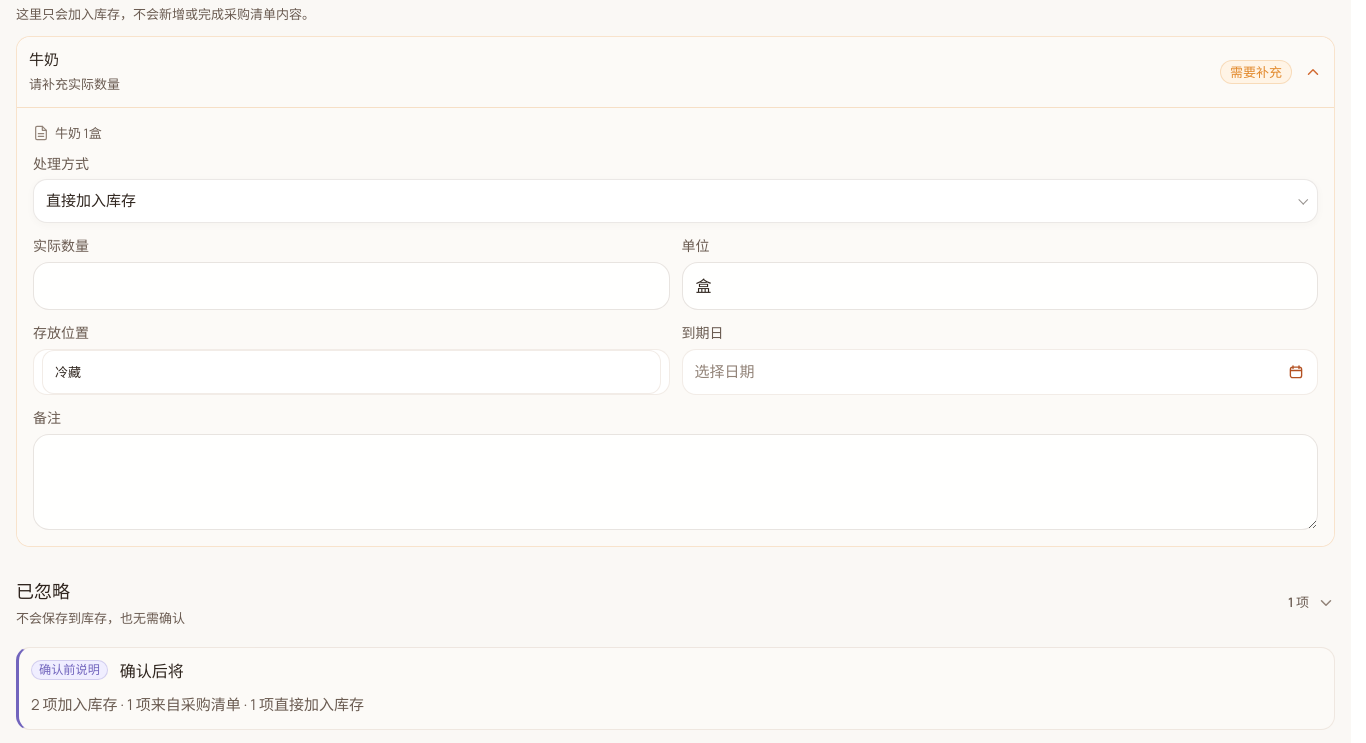
AiInventoryIntakeApproval › presents a compact overview and collapses ignored section by default
(page scrolled)
Click the button with class "ai-inventory-intake-ignored-toggle" at (43, 591), box top-left (16, 579), bottom-right (1335, 627)
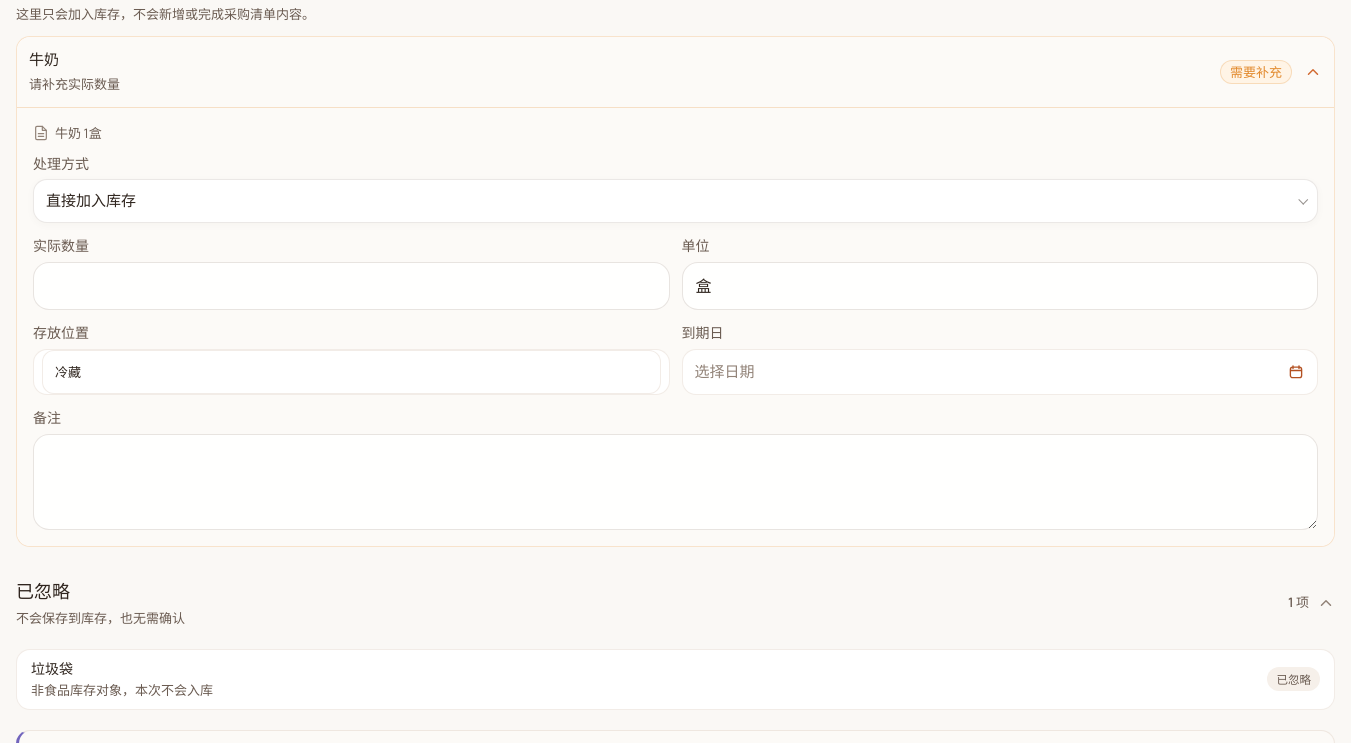
Expected: the button with class "ai-inventory-intake-ignored-toggle" is expanded, top-left (16, 579), bottom-right (1335, 627)
Expected: the element with class "ai-inventory-intake-ignored" shows "垃圾袋", top-left (31, 659), bottom-right (73, 678)
Expected: the element with class "ai-inventory-intake-ignored" shows "非食品库存对象", top-left (31, 681), bottom-right (213, 699)
